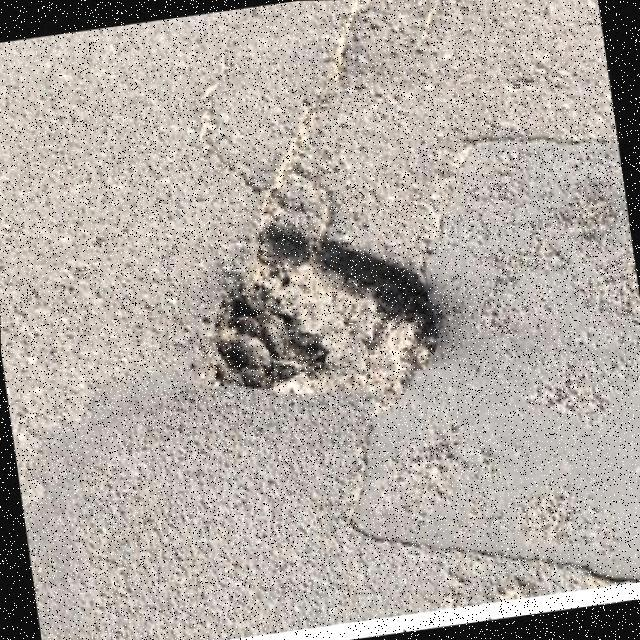Pothole: (211, 223, 440, 408)
